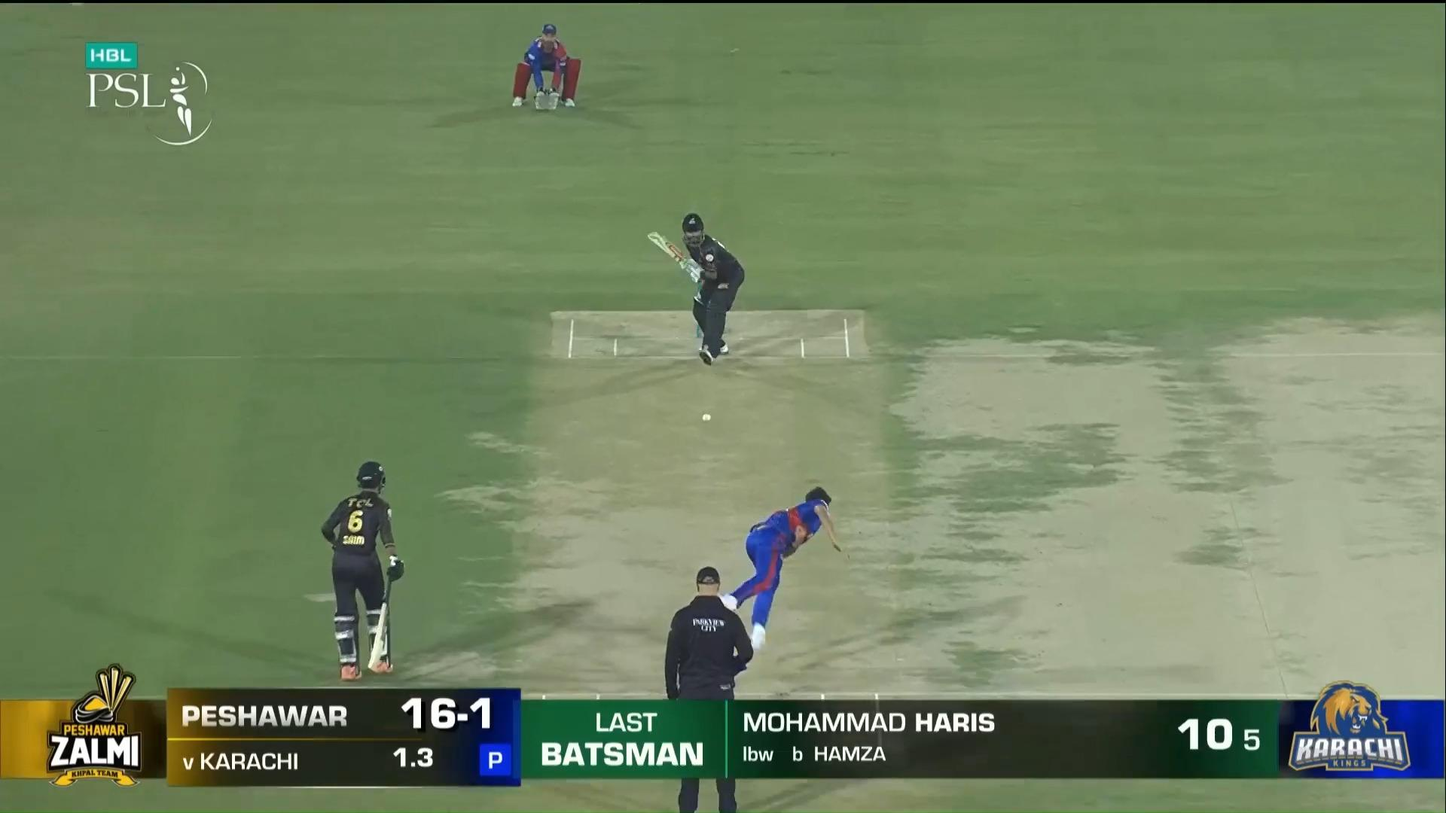batsman: (648, 213, 746, 366)
